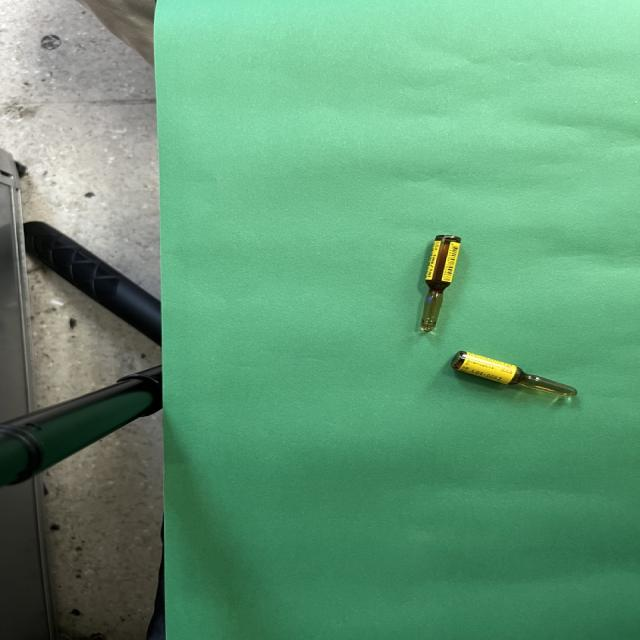Ampoules: (451, 351, 577, 398), (421, 235, 461, 333)
